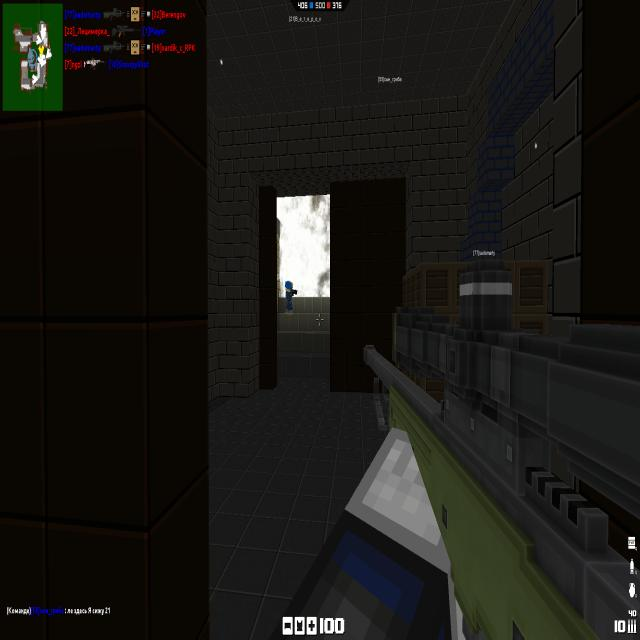player: (284, 280, 296, 318)
